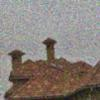chimneys: (42, 38, 56, 60)
